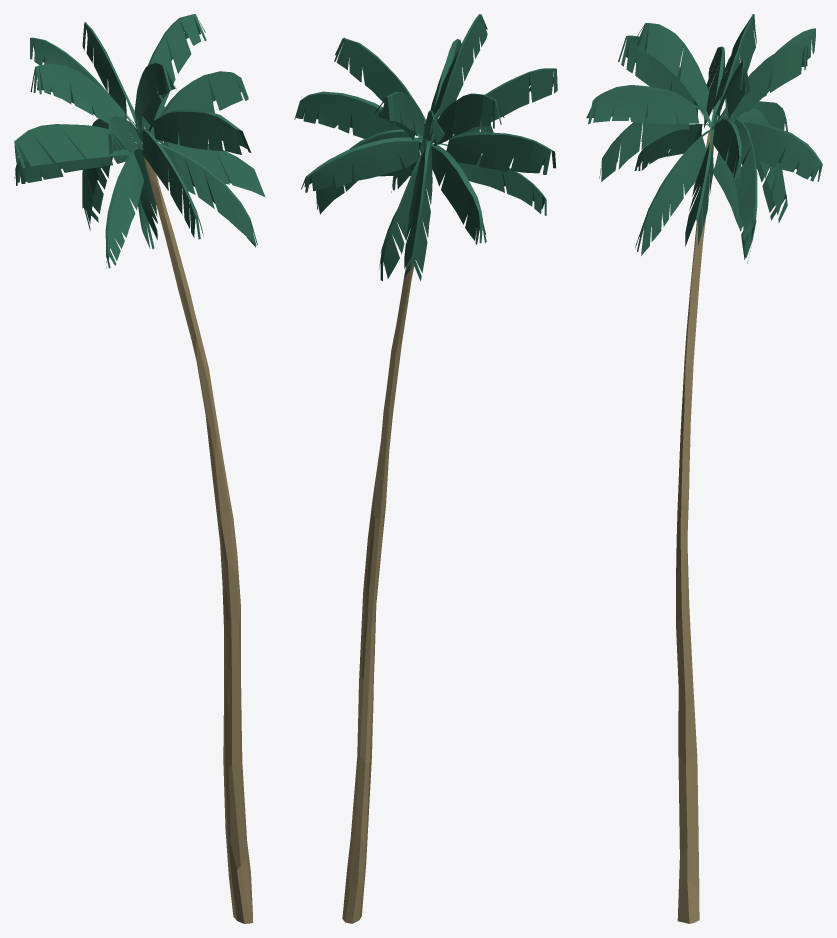
The model's file is tree_palm_nibong_B.fbx.
3 views of the same model, side by side, from view 1: azimuth 30°, elevation 25°; view 2: azimuth 150°, elevation 25°; view 3: azimuth 270°, elevation 25° (orthographic). The views are drawn at different scales.
Parts seen in each view (by area): view 1: palm_nibong_trunk_B, leaf_palm_nebong_B_9, leaf_palm_nebong_B_7, leaf_palm_nebong_B_5, leaf_palm_nebong_B_14, leaf_palm_nebong_B_17, leaf_palm_nebong_B_8, leaf_palm_nebong_B_6, leaf_palm_nebong_B_12, leaf_palm_nebong_B_16, leaf_palm_nebong_B_4, leaf_palm_nebong_B_11 (+5 smaller); view 2: palm_nibong_trunk_B, leaf_palm_nebong_B_10, leaf_palm_nebong_B_9, leaf_palm_nebong_B_8, leaf_palm_nebong_B_11, leaf_palm_nebong_B_13, leaf_palm_nebong_B_6, leaf_palm_nebong_B_2, leaf_palm_nebong_B_5, leaf_palm_nebong_B_4, leaf_palm_nebong_B_17, leaf_palm_nebong_B_18 (+2 smaller); view 3: palm_nibong_trunk_B, leaf_palm_nebong_B_7, leaf_palm_nebong_B_14, leaf_palm_nebong_B_4, leaf_palm_nebong_B_10, leaf_palm_nebong_B_3, leaf_palm_nebong_B_12, leaf_palm_nebong_B_2, leaf_palm_nebong_B_15, leaf_palm_nebong_B_13, leaf_palm_nebong_B_16, leaf_palm_nebong_B_17 (+7 smaller).
Boxes of the visible parts, x1=… form: palm_nibong_trunk_B: x1=141, y1=143, x2=253, y2=923; leaf_palm_nebong_B_9: x1=14, y1=124, x2=142, y2=167; leaf_palm_nebong_B_7: x1=148, y1=109, x2=251, y2=154; leaf_palm_nebong_B_5: x1=30, y1=63, x2=139, y2=132; leaf_palm_nebong_B_14: x1=159, y1=143, x2=257, y2=247; leaf_palm_nebong_B_17: x1=105, y1=141, x2=143, y2=268; leaf_palm_nebong_B_8: x1=154, y1=71, x2=248, y2=142; leaf_palm_nebong_B_6: x1=135, y1=14, x2=206, y2=133; leaf_palm_nebong_B_12: x1=139, y1=128, x2=203, y2=239; leaf_palm_nebong_B_16: x1=156, y1=139, x2=265, y2=197; leaf_palm_nebong_B_4: x1=134, y1=62, x2=176, y2=133; leaf_palm_nebong_B_11: x1=14, y1=138, x2=141, y2=185; palm_nibong_trunk_B: x1=342, y1=144, x2=431, y2=923; leaf_palm_nebong_B_10: x1=301, y1=137, x2=426, y2=192; leaf_palm_nebong_B_9: x1=431, y1=132, x2=556, y2=174; leaf_palm_nebong_B_8: x1=294, y1=91, x2=422, y2=139; leaf_palm_nebong_B_11: x1=431, y1=145, x2=486, y2=244; leaf_palm_nebong_B_13: x1=404, y1=140, x2=432, y2=281; leaf_palm_nebong_B_6: x1=334, y1=37, x2=431, y2=135; leaf_palm_nebong_B_2: x1=432, y1=68, x2=557, y2=141; leaf_palm_nebong_B_5: x1=430, y1=93, x2=504, y2=145; leaf_palm_nebong_B_4: x1=430, y1=14, x2=487, y2=140; leaf_palm_nebong_B_17: x1=431, y1=143, x2=546, y2=215; leaf_palm_nebong_B_18: x1=378, y1=151, x2=425, y2=281; palm_nibong_trunk_B: x1=676, y1=131, x2=714, y2=923; leaf_palm_nebong_B_7: x1=586, y1=85, x2=709, y2=127; leaf_palm_nebong_B_14: x1=635, y1=130, x2=710, y2=255; leaf_palm_nebong_B_4: x1=633, y1=23, x2=715, y2=124; leaf_palm_nebong_B_10: x1=743, y1=122, x2=822, y2=181; leaf_palm_nebong_B_3: x1=715, y1=44, x2=807, y2=124; leaf_palm_nebong_B_12: x1=599, y1=105, x2=712, y2=181; leaf_palm_nebong_B_2: x1=618, y1=35, x2=711, y2=127; leaf_palm_nebong_B_15: x1=727, y1=118, x2=757, y2=241; leaf_palm_nebong_B_13: x1=712, y1=108, x2=787, y2=223; leaf_palm_nebong_B_16: x1=685, y1=129, x2=713, y2=246; leaf_palm_nebong_B_17: x1=634, y1=124, x2=709, y2=170.
Size of the model in its own units: 246 by 863 by 218.
